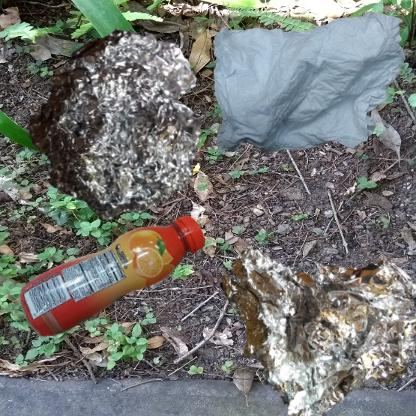aluminio: (10, 10, 231, 246), (213, 213, 416, 416)
botella: (10, 213, 233, 350)
papel: (213, 10, 406, 154)
